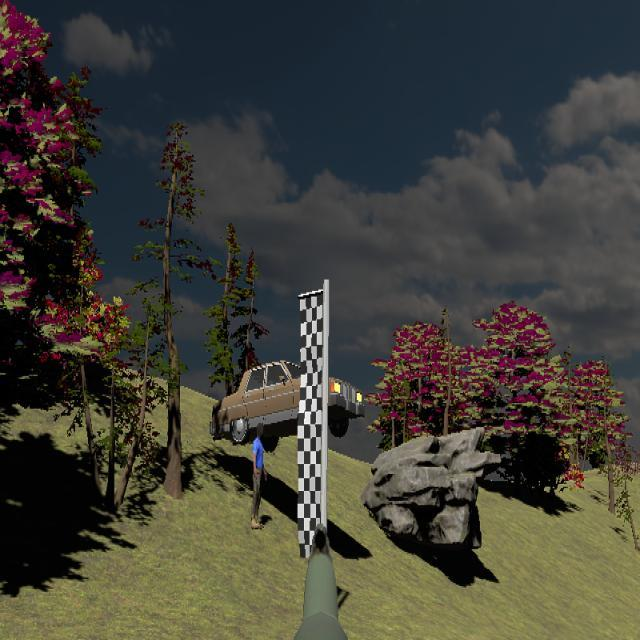Human: (250, 422, 267, 529)
car: (209, 359, 365, 452)
